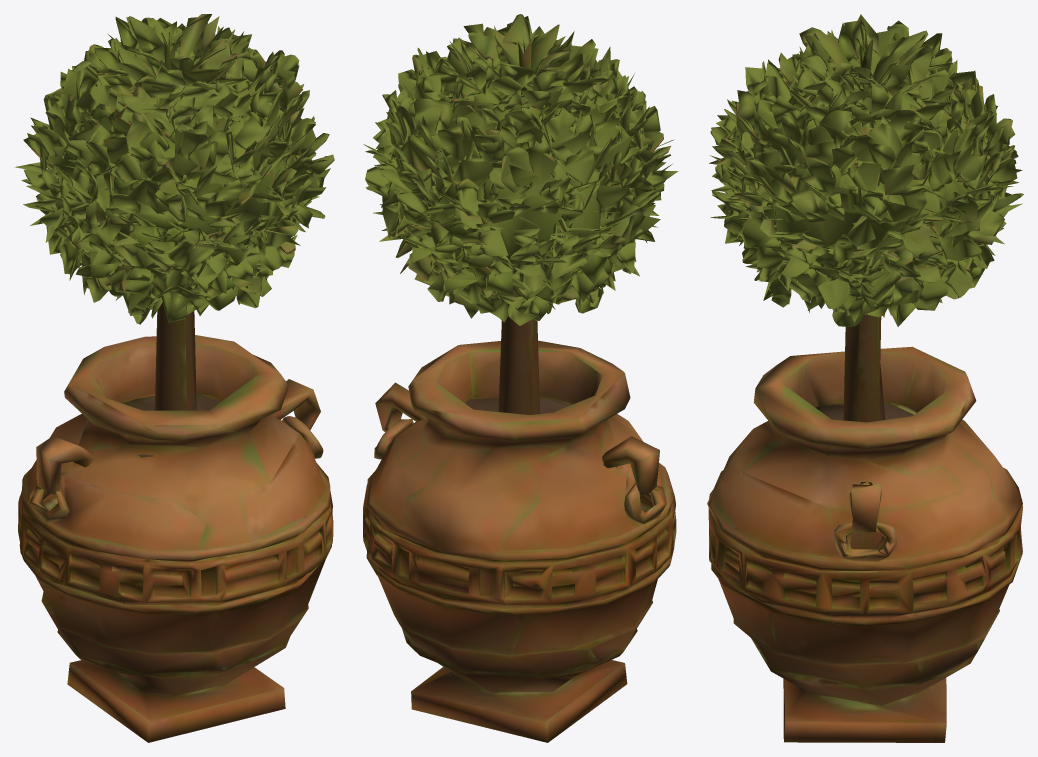
The model's file is decor_pot_t1_large.glb.
3 renders of one model, left to right at view 1: azimuth 30°, elevation 25°; view 2: azimuth 150°, elevation 25°; view 3: azimuth 270°, elevation 25°, orthographic.
Parts seen in each view (by area): view 1: world; view 2: world; view 3: world.
Boxes of the visible parts, left/top/right/bottom form: world: left=14, top=14, right=334, bottom=742; world: left=363, top=14, right=678, bottom=742; world: left=707, top=14, right=1023, bottom=742.
Bounding box in the file's own units: 0.7334 × 1.69 × 0.7194.
Materials: 1 (1 with a texture image).
